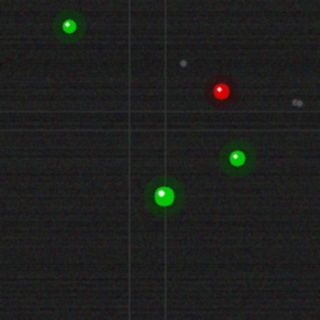green_normal: (152, 184, 176, 208), (227, 148, 247, 168), (60, 17, 78, 35)
red_fault: (211, 81, 231, 101)
